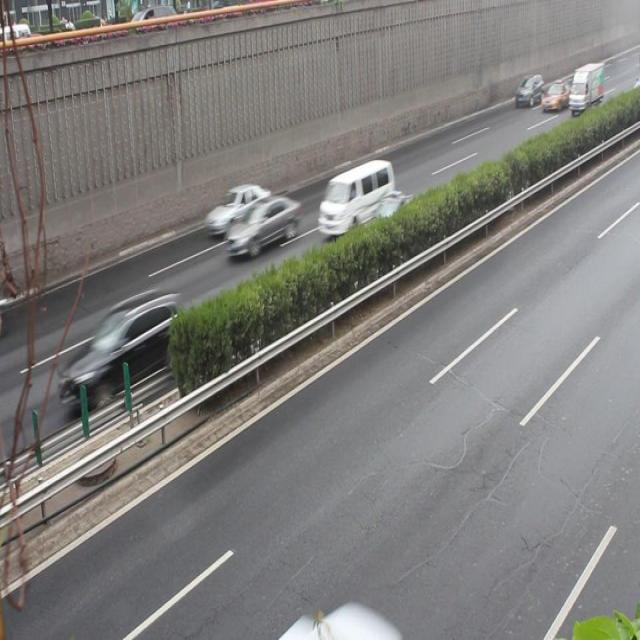car: (62, 286, 183, 402), (223, 191, 296, 252), (202, 179, 271, 231), (358, 191, 421, 245), (511, 69, 541, 104), (537, 76, 569, 108)
